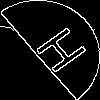H: (25, 25, 89, 81)
